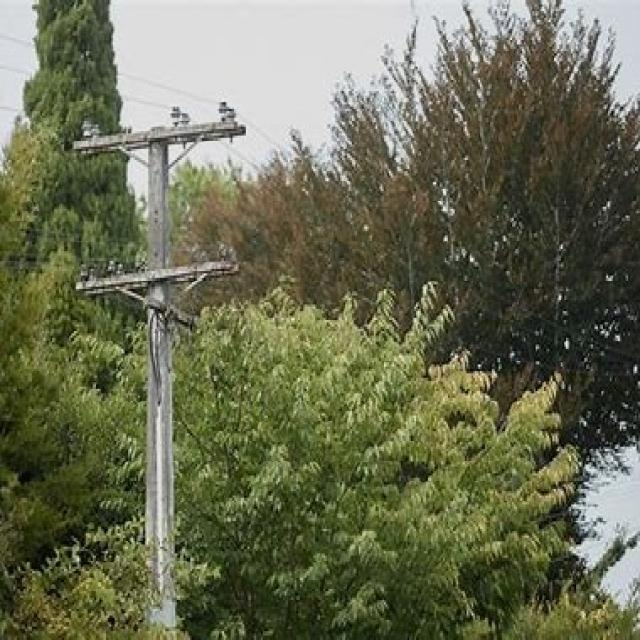utility poles: (66, 97, 256, 630)
